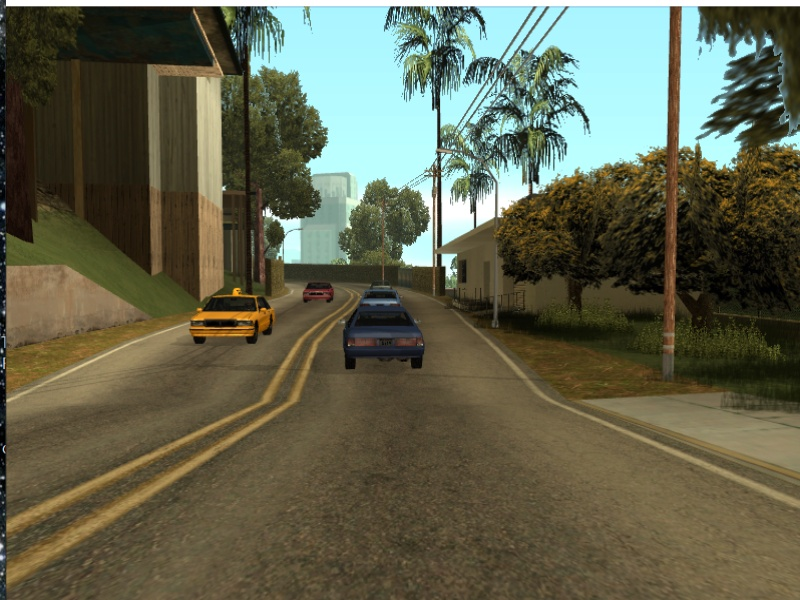pole: (668, 13, 688, 383), (428, 181, 441, 301), (493, 183, 502, 332)
tree: (243, 82, 257, 291)
vehicle: (340, 304, 426, 374), (187, 291, 278, 348), (301, 279, 336, 304), (356, 289, 401, 306)
